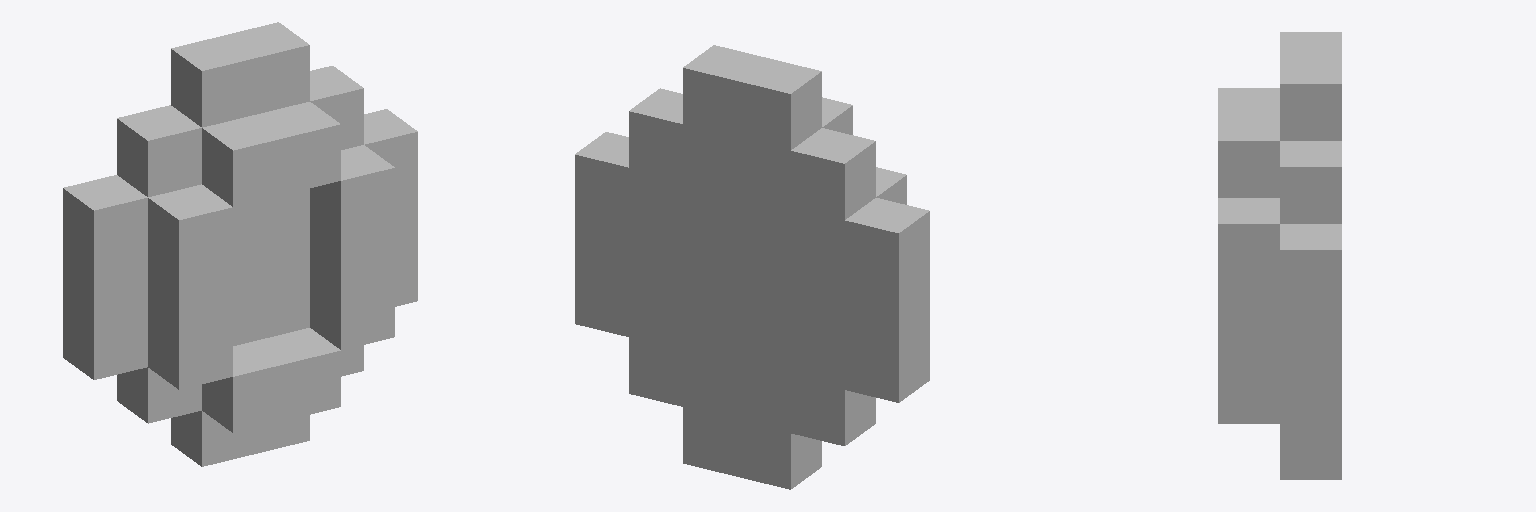
File: keyholePurple.obj
The picture shows the model from 3 angles: view 1: azimuth 30°, elevation 25°; view 2: azimuth 150°, elevation 25°; view 3: azimuth 270°, elevation 25°; orthographic projection.
Visible parts, largest first — view 1: object 1; view 2: object 1; view 3: object 1.
Part boxes in pixels (x1,y1,x2,y2): object 1: (63,22,417,466); object 1: (575,45,929,489); object 1: (1218,32,1341,479).
Bounding box in the file's own units: 0.6 × 0.7 × 0.2.